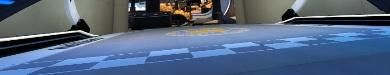Car: (0, 0, 389, 74)
